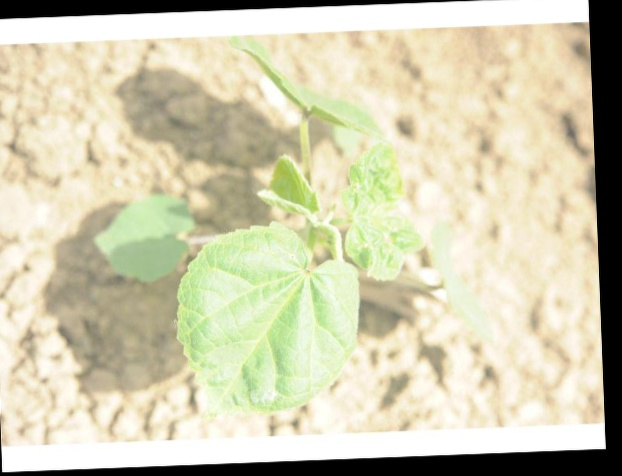velvet: (92, 36, 427, 412)
